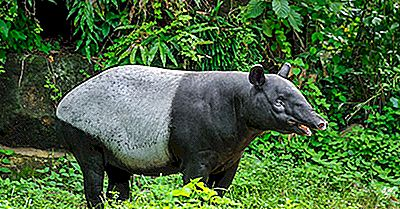Anta: (50, 58, 331, 202)
